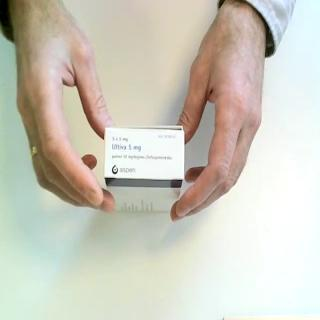ultiva5mg: (103, 125, 187, 215)
